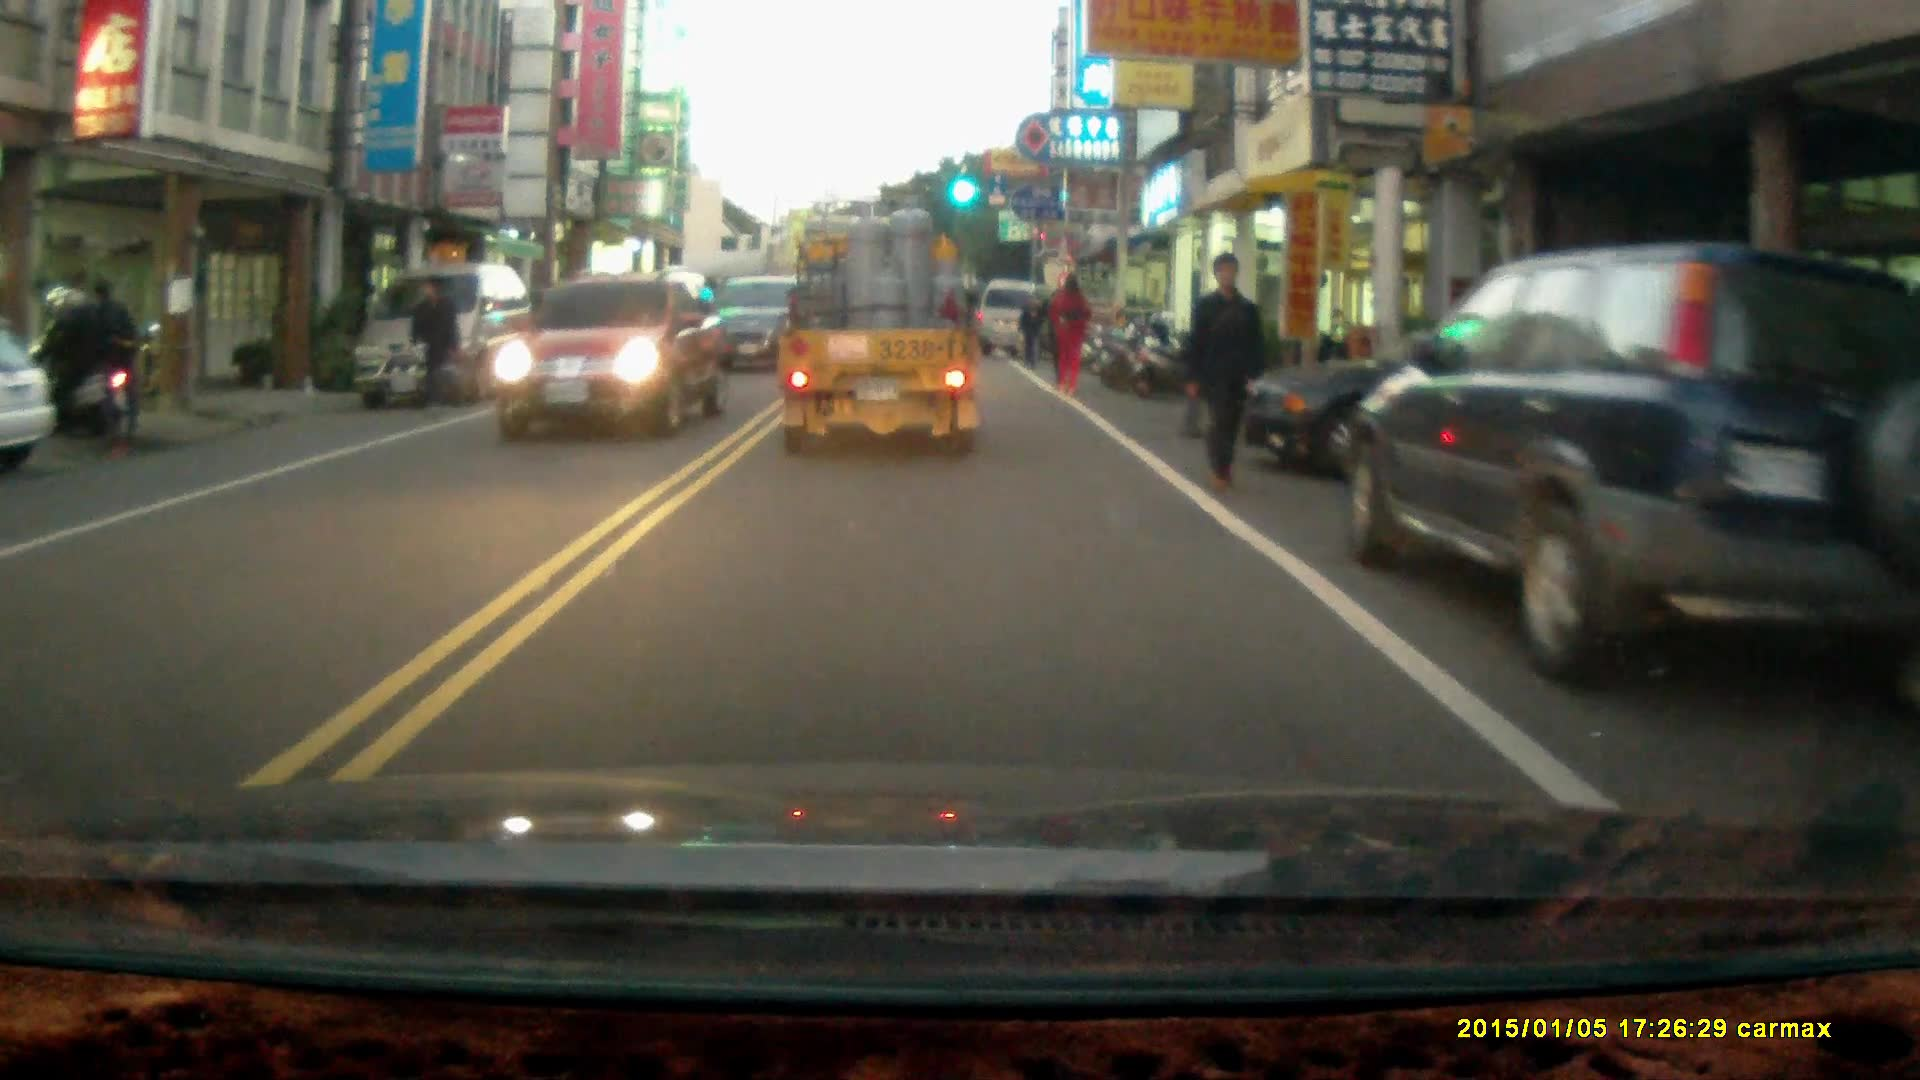pedestrian: (1181, 251, 1265, 500), (82, 279, 146, 450), (404, 276, 460, 423), (1050, 271, 1090, 394), (1016, 296, 1044, 366)
rider: (27, 285, 131, 444)
vehicle: (1340, 237, 1910, 706), (775, 204, 983, 472), (493, 267, 736, 436), (702, 277, 812, 382), (1, 331, 62, 474), (984, 274, 1057, 358)
